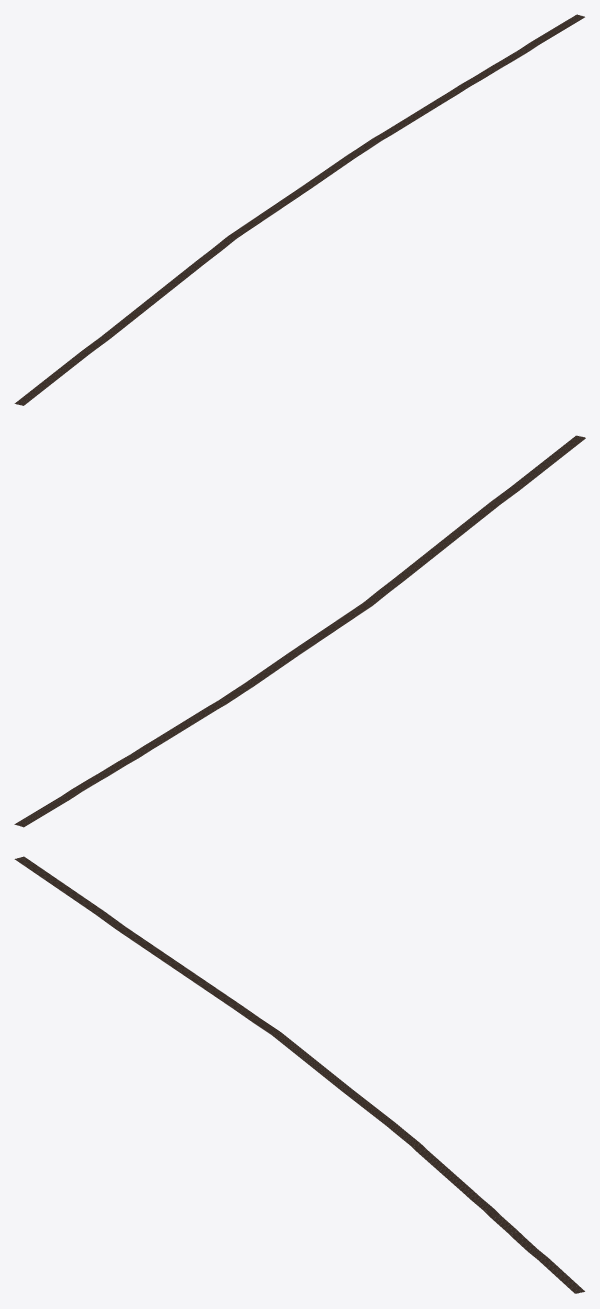
The model's file is kobe_0028.glb.
3 views of the same model, one above another, from view 1: azimuth 30°, elevation 25°; view 2: azimuth 210°, elevation 25°; view 3: azimuth 270°, elevation 25° (orthographic). The views are drawn at different scales.
Parts seen in each view (by area): view 1: ballast_top, oxidised_rail_profiles; view 2: ballast_top, oxidised_rail_profiles, ballast_left; view 3: ballast_top, oxidised_rail_profiles.
Part boxes in pixels (x1,y1,x2,y2): ballast_top: (14,14,584,405); oxidised_rail_profiles: (16,14,583,404); ballast_top: (14,435,584,826); oxidised_rail_profiles: (16,436,583,826); ballast_left: (23,438,585,827); ballast_top: (14,856,584,1293); oxidised_rail_profiles: (17,856,583,1292).
Bounding box in the file's own units: 666 × 0.819 × 368.
Materials: 4 (3 with a texture image).
